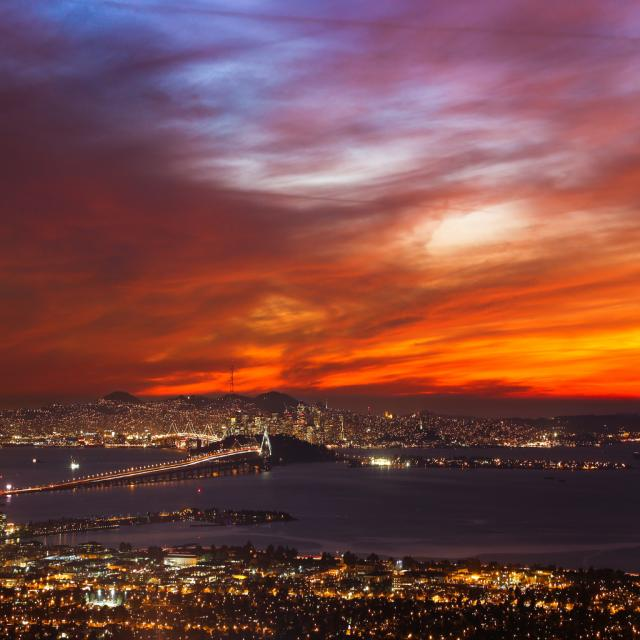no_fire: (6, 39, 640, 488)
